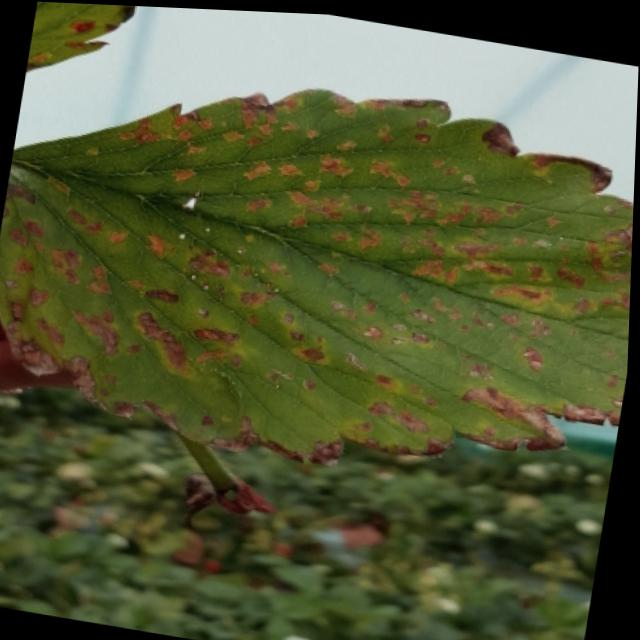Angular Leafspot: (0, 81, 635, 465), (25, 1, 138, 77)
